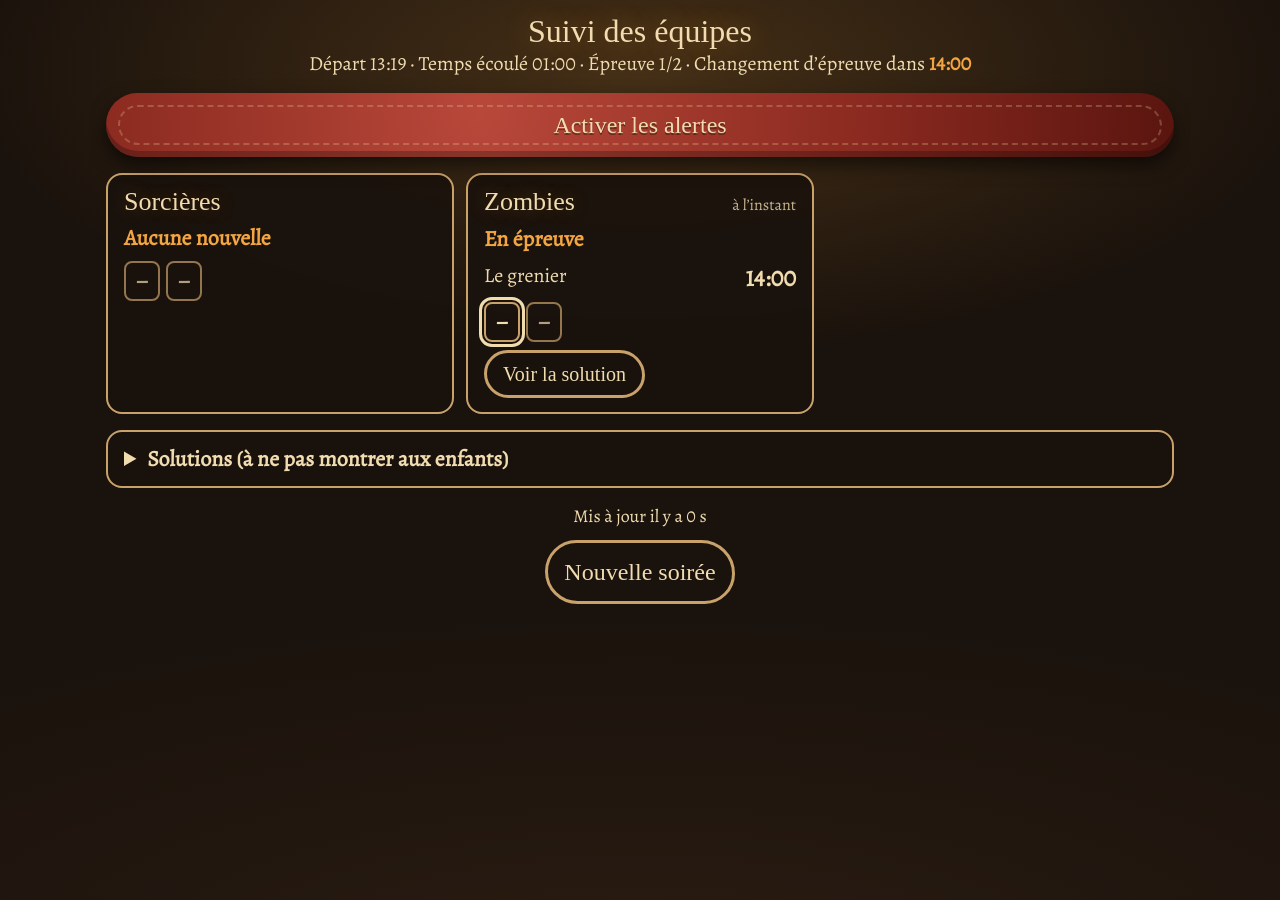
Test: BoardScreen › says so when the board could not be emptied
Check: the text "En épreuve" is shown, box 484,224 -> 584,254
Click the button "Nouvelle soirée" at (640, 572), box 545,540 -> 735,604
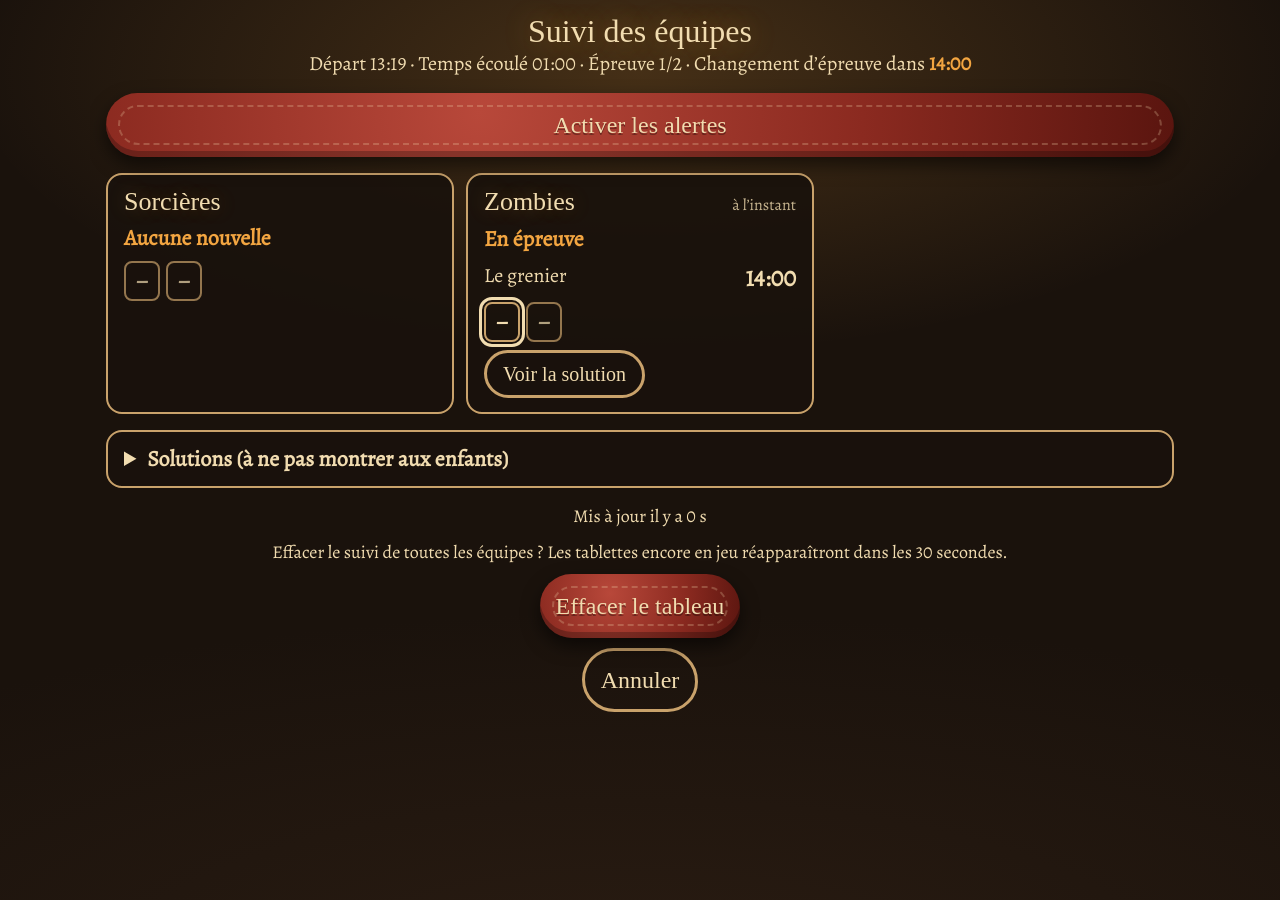
Click the button "Effacer le tableau" at (640, 606), box 540,574 -> 740,638
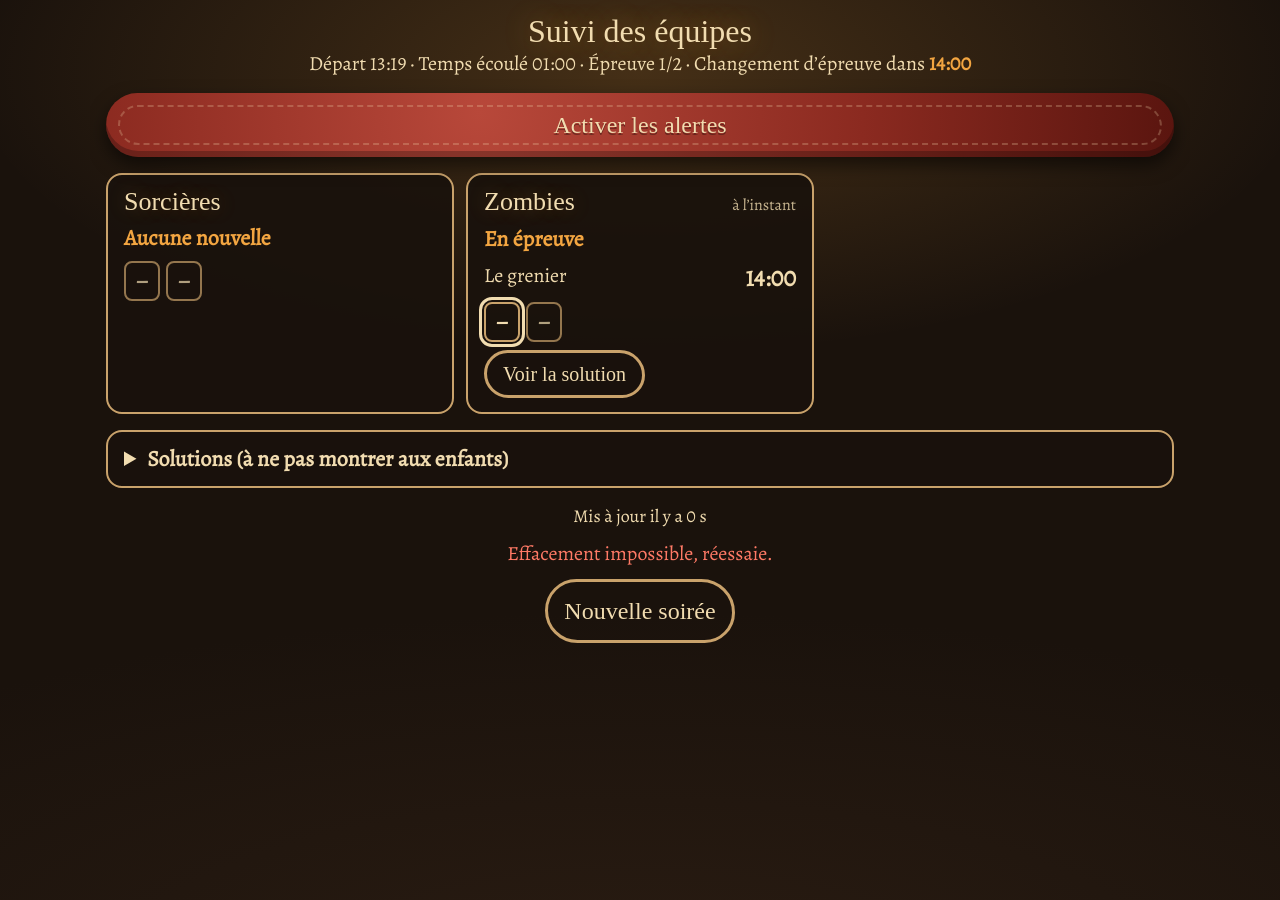
Check: the text "Effacement impossible, réessaie." is shown, box 507,540 -> 773,567
